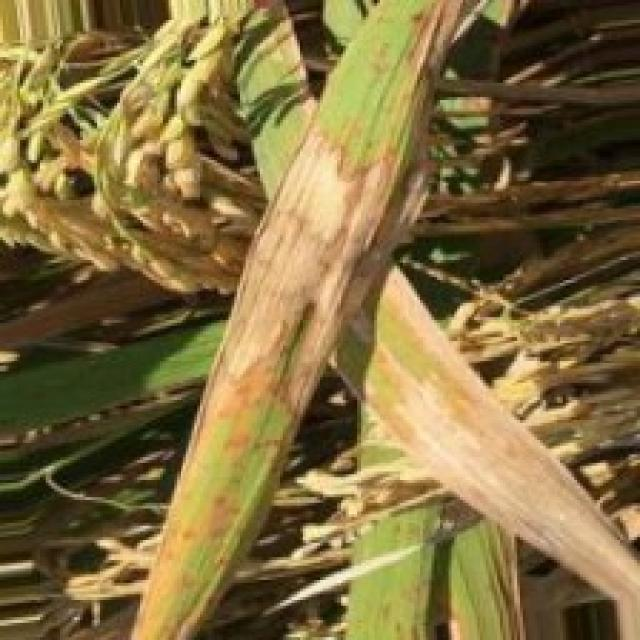Bacterial_Blight: (381, 310, 640, 628), (182, 109, 404, 417)
